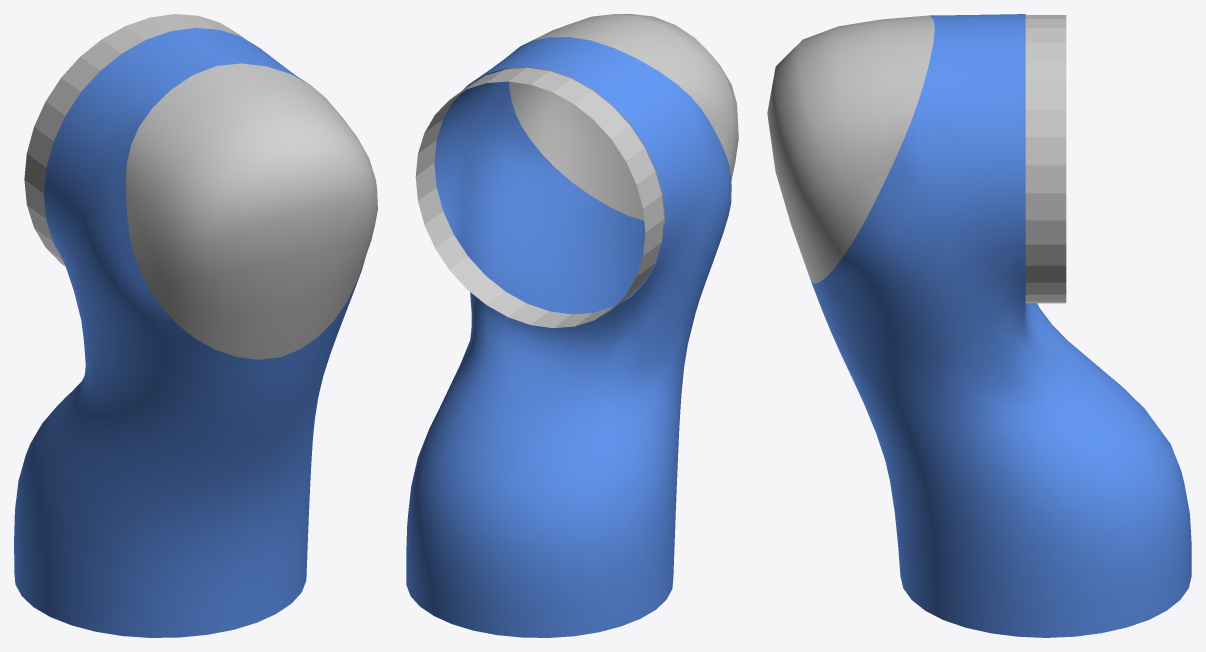
The model's file is arm_segment_a_blue.dae.
3 views of the same model, side by side, from view 1: azimuth 30°, elevation 25°; view 2: azimuth 150°, elevation 25°; view 3: azimuth 270°, elevation 25° (orthographic). The views are drawn at different scales.
Visible parts, largest first — view 1: segment; view 2: segment; view 3: segment.
Part boxes in pixels (left/top/right/bottom): segment: left=14, top=14, right=377, bottom=637; segment: left=406, top=14, right=738, bottom=637; segment: left=767, top=14, right=1191, bottom=637.
Bounding box in the file's own units: 0.124 × 0.1765 × 0.252.
